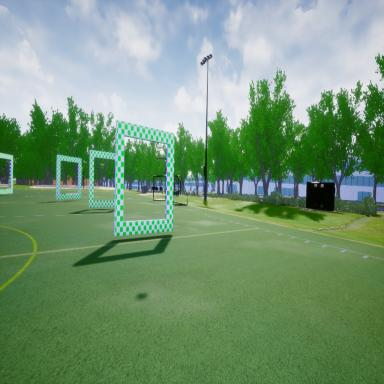gate: (114, 114, 175, 242), (56, 151, 81, 204)
